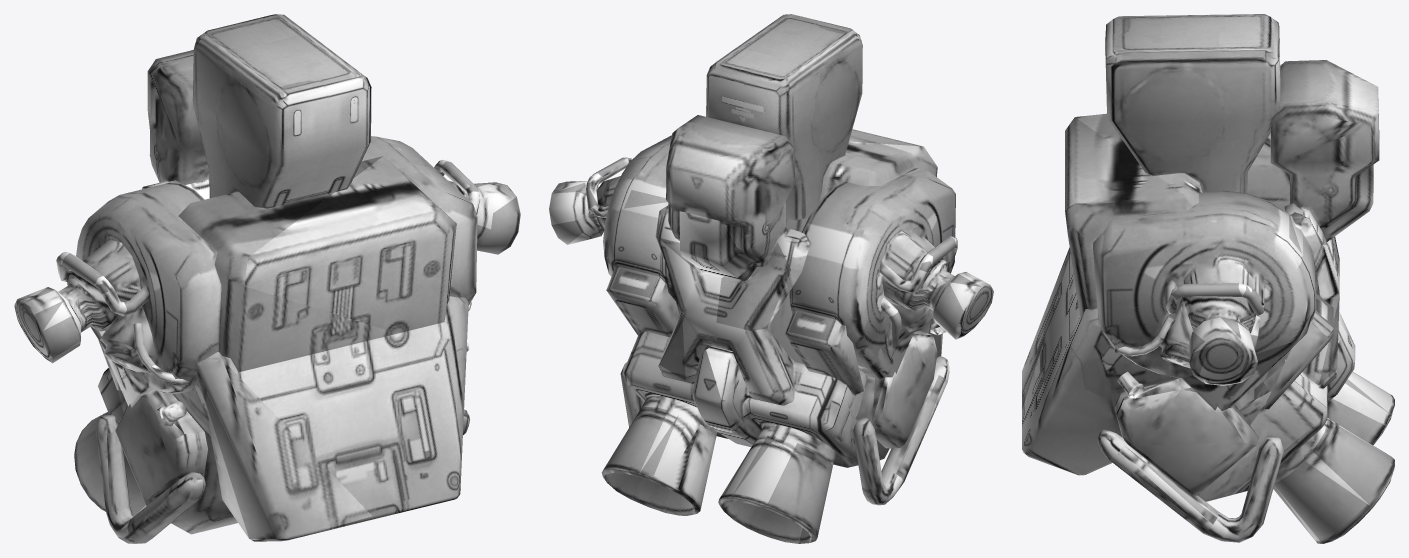
The model's file is b_std.glb.
3 renders of one model, left to right at view 1: azimuth 30°, elevation 25°; view 2: azimuth 150°, elevation 25°; view 3: azimuth 270°, elevation 25°, orthographic. The views are drawn at different scales.
Visible parts, largest first — view 1: b_std; view 2: b_std; view 3: b_std.
Part boxes in pixels (box(x1,y1,x2,y2)): b_std: box(14, 14, 520, 543); b_std: box(549, 14, 993, 543); b_std: box(1022, 14, 1394, 543).
Bounding box in the file's own units: 0.9237 × 0.9143 × 0.652.
3 materials, 3 textured.
